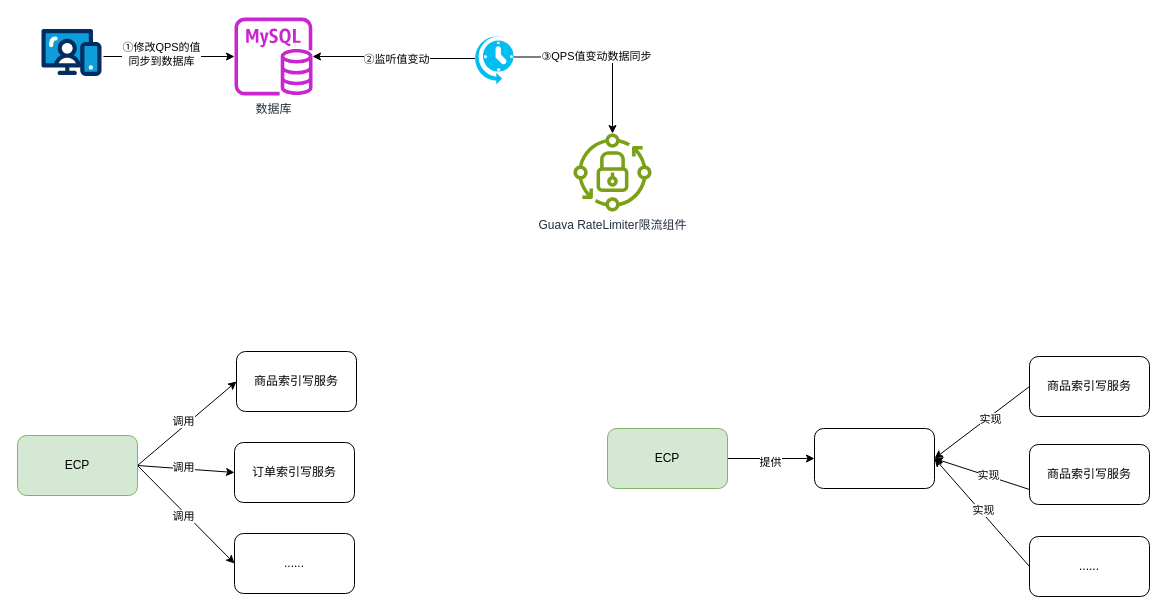
Some shapes in this 1167 by 614 pixel diagram are drawn without their labels. Here are the shapes that lost their labels. From the top down, the centre of each, then its label:
At point (71, 52): "WEB端".
At point (493, 59): "定时调度器".
At point (874, 458): "数据推送接口".
